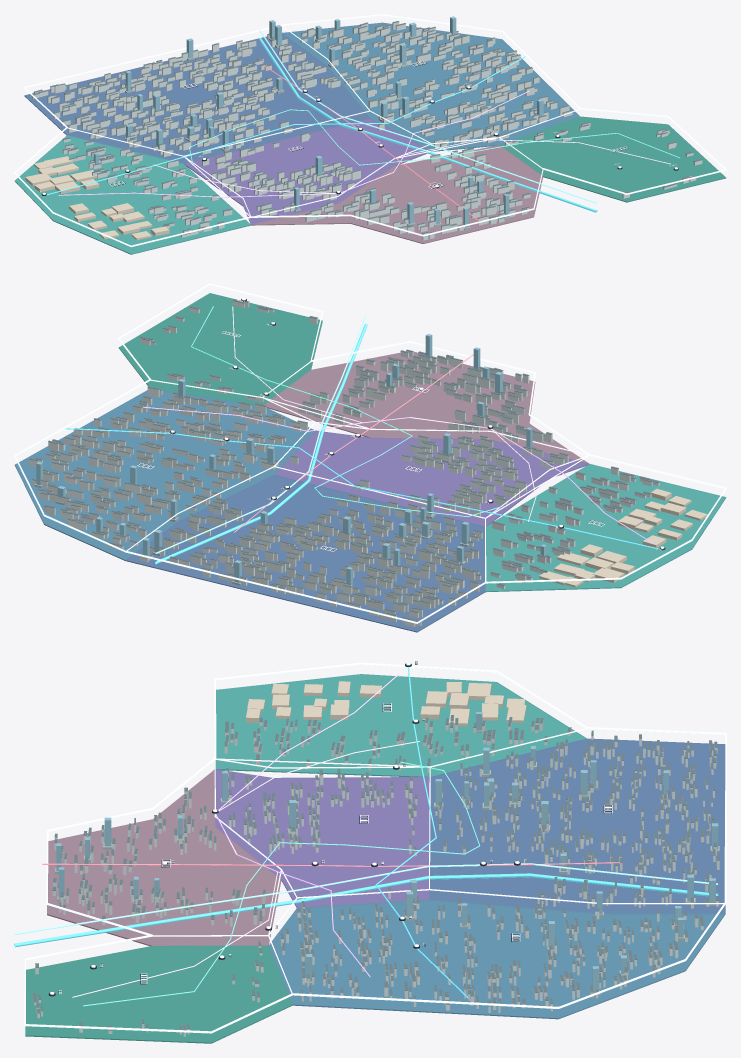
Rendered from changchun-city.glb.
3 renders of one model, top to bottom at view 1: azimuth 30°, elevation 25°; view 2: azimuth 150°, elevation 25°; view 3: azimuth 270°, elevation 25°, orthographic. The views are drawn at different scales.
Visible parts, largest first — view 1: 连续住宅街坊_按区内道路退让, 宽城区_参考图轮廓面, 住宅屋顶_按区内道路退让, 二道区_参考图轮廓面, 净月高新区_参考图轮廓面, 绿园区_参考图轮廓面, 南关区_参考图轮廓面, 朝阳区_参考图轮廓面, 商业办公高层_中心集聚, 绿园西部产业厂房_成片布局, 长春市核心区外轮廓_仅保留参考图范围, 伊通河_参考图位置 (+10 smaller); view 2: 连续住宅街坊_按区内道路退让, 宽城区_参考图轮廓面, 住宅屋顶_按区内道路退让, 二道区_参考图轮廓面, 净月高新区_参考图轮廓面, 绿园区_参考图轮廓面, 朝阳区_参考图轮廓面, 南关区_参考图轮廓面, 商业办公高层_中心集聚, 绿园西部产业厂房_成片布局, 长春市核心区外轮廓_仅保留参考图范围, 伊通河_参考图位置 (+7 smaller); view 3: 宽城区_参考图轮廓面, 二道区_参考图轮廓面, 绿园区_参考图轮廓面, 连续住宅街坊_按区内道路退让, 净月高新区_参考图轮廓面, 南关区_参考图轮廓面, 朝阳区_参考图轮廓面, 住宅屋顶_按区内道路退让, 商业办公高层_中心集聚, 绿园西部产业厂房_成片布局, 长春市核心区外轮廓_仅保留参考图范围, 伊通河_参考图位置 (+12 smaller).
Part boxes in pixels (x1,y1,x2,y2): 连续住宅街坊_按区内道路退让: [32, 22, 702, 240]; 宽城区_参考图轮廓面: [24, 33, 369, 163]; 住宅屋顶_按区内道路退让: [33, 21, 702, 235]; 二道区_参考图轮廓面: [282, 22, 579, 151]; 净月高新区_参考图轮廓面: [500, 116, 725, 202]; 绿园区_参考图轮廓面: [15, 135, 251, 254]; 南关区_参考图轮廓面: [251, 145, 543, 243]; 朝阳区_参考图轮廓面: [184, 118, 431, 224]; 商业办公高层_中心集聚: [93, 16, 543, 227]; 绿园西部产业厂房_成片布局: [25, 156, 169, 240]; 长春市核心区外轮廓_仅保留参考图范围: [14, 14, 726, 246]; 伊通河_参考图位置: [259, 38, 597, 212]; 连续住宅街坊_按区内道路退让: [28, 300, 659, 626]; 宽城区_参考图轮廓面: [125, 475, 485, 632]; 住宅屋顶_按区内道路退让: [29, 299, 659, 622]; 二道区_参考图轮廓面: [14, 390, 314, 560]; 净月高新区_参考图轮廓面: [118, 293, 322, 404]; 绿园区_参考图轮廓面: [485, 464, 726, 592]; 朝阳区_参考图轮廓面: [274, 430, 589, 526]; 南关区_参考图轮廓面: [264, 352, 588, 463]; 商业办公高层_中心集聚: [36, 334, 546, 586]; 绿园西部产业厂房_成片布局: [539, 488, 707, 587]; 长春市核心区外轮廓_仅保留参考图范围: [14, 283, 726, 623]; 伊通河_参考图位置: [155, 323, 367, 564]; 宽城区_参考图轮廓面: [429, 738, 725, 913]; 二道区_参考图轮廓面: [268, 899, 725, 1019]; 绿园区_参考图轮廓面: [215, 674, 586, 776]; 连续住宅街坊_按区内道路退让: [32, 717, 719, 1036]; 净月高新区_参考图轮廓面: [25, 945, 292, 1043]; 南关区_参考图轮廓面: [47, 769, 281, 946]; 朝阳区_参考图轮廓面: [215, 769, 429, 907]; 住宅屋顶_按区内道路退让: [32, 715, 719, 1030]; 商业办公高层_中心集聚: [56, 712, 718, 993]; 绿园西部产业厂房_成片布局: [246, 681, 526, 726]; 长春市核心区外轮廓_仅保留参考图范围: [24, 662, 726, 1032]; 伊通河_参考图位置: [14, 873, 718, 947].
Bounding box in the file's own units: 67489 × 2741 × 55035.
